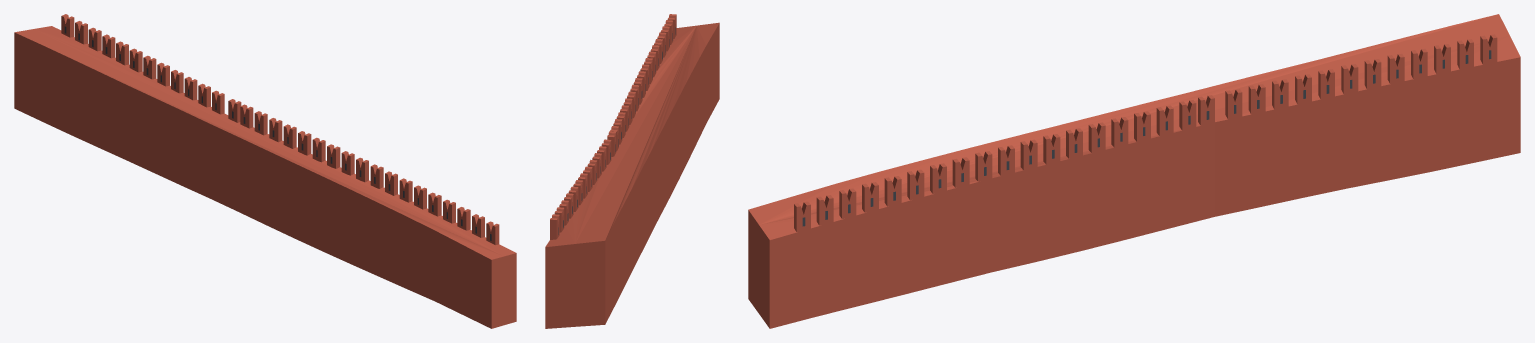
Rendered from moscow-kremlin-wall-alarm-constantine.glb.
The picture shows the model from 3 angles, left to right: view 1: azimuth 30°, elevation 25°; view 2: azimuth 150°, elevation 25°; view 3: azimuth 270°, elevation 25°; orthographic projection. The views are drawn at different scales.
Parts seen in each view (by area): view 1: Kremlin Wall, Alarm Tower to Constantine and Helen Tower; view 2: Kremlin Wall, Alarm Tower to Constantine and Helen Tower; view 3: Kremlin Wall, Alarm Tower to Constantine and Helen Tower.
Boxes of the visible parts, <box> form: Kremlin Wall, Alarm Tower to Constantine and Helen Tower: <box>14,14,516,328</box>; Kremlin Wall, Alarm Tower to Constantine and Helen Tower: <box>545,14,719,328</box>; Kremlin Wall, Alarm Tower to Constantine and Helen Tower: <box>748,14,1520,328</box>.
Bounding box in the file's own units: 27.11 × 16.81 × 63.79.
